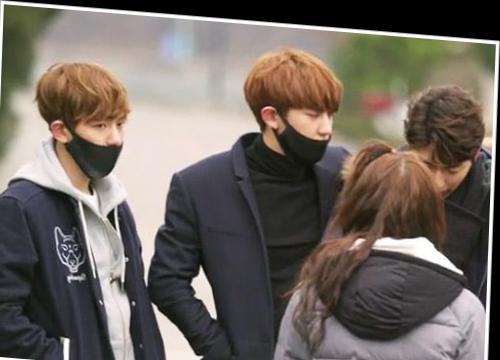NONE: (415, 145, 469, 198)
WRONG: (73, 105, 128, 182), (280, 96, 337, 164)
